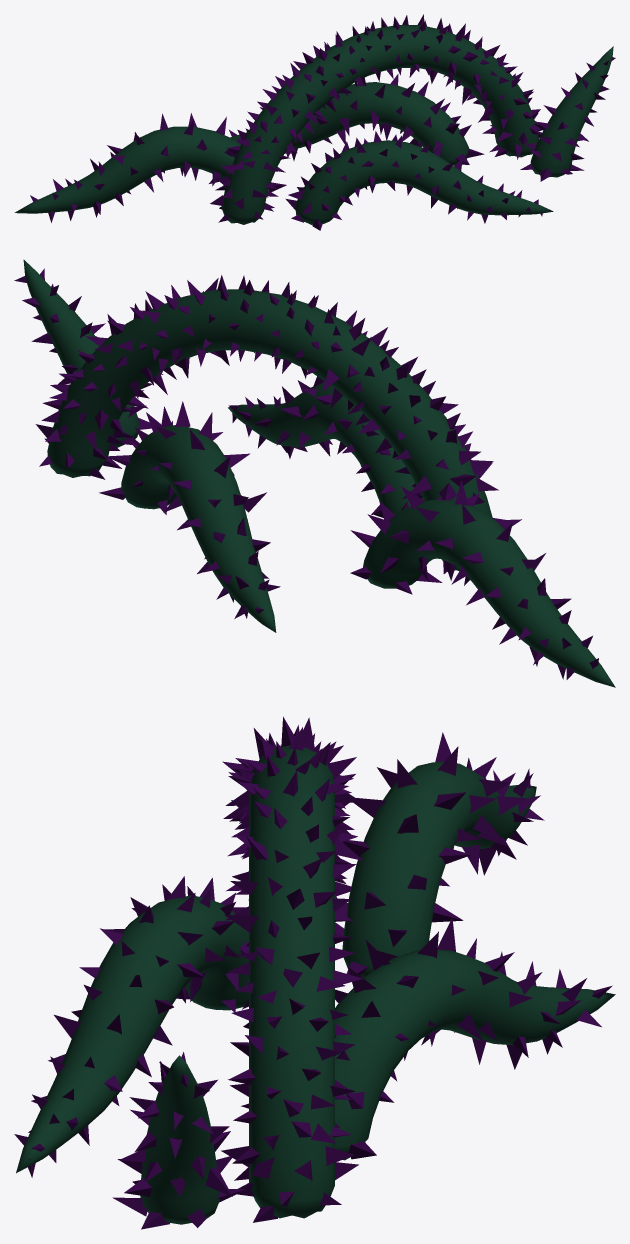
File: FBX_Brambles.fbx
The picture shows the model from 3 angles, top to bottom: view 1: azimuth 30°, elevation 25°; view 2: azimuth 150°, elevation 25°; view 3: azimuth 270°, elevation 25°; orthographic projection. The views are drawn at different scales.
Visible parts, largest first — view 1: brambles3; view 2: brambles3; view 3: brambles3.
Boxes of the visible parts, x1=… form: brambles3: x1=14, y1=14, x2=615, y2=230; brambles3: x1=14, y1=259, x2=615, y2=687; brambles3: x1=14, y1=716, x2=615, y2=1229.
Size of the model in its own units: 1032 by 341 by 539.
